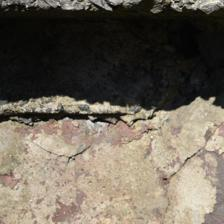Crack: (2, 44, 159, 96)
